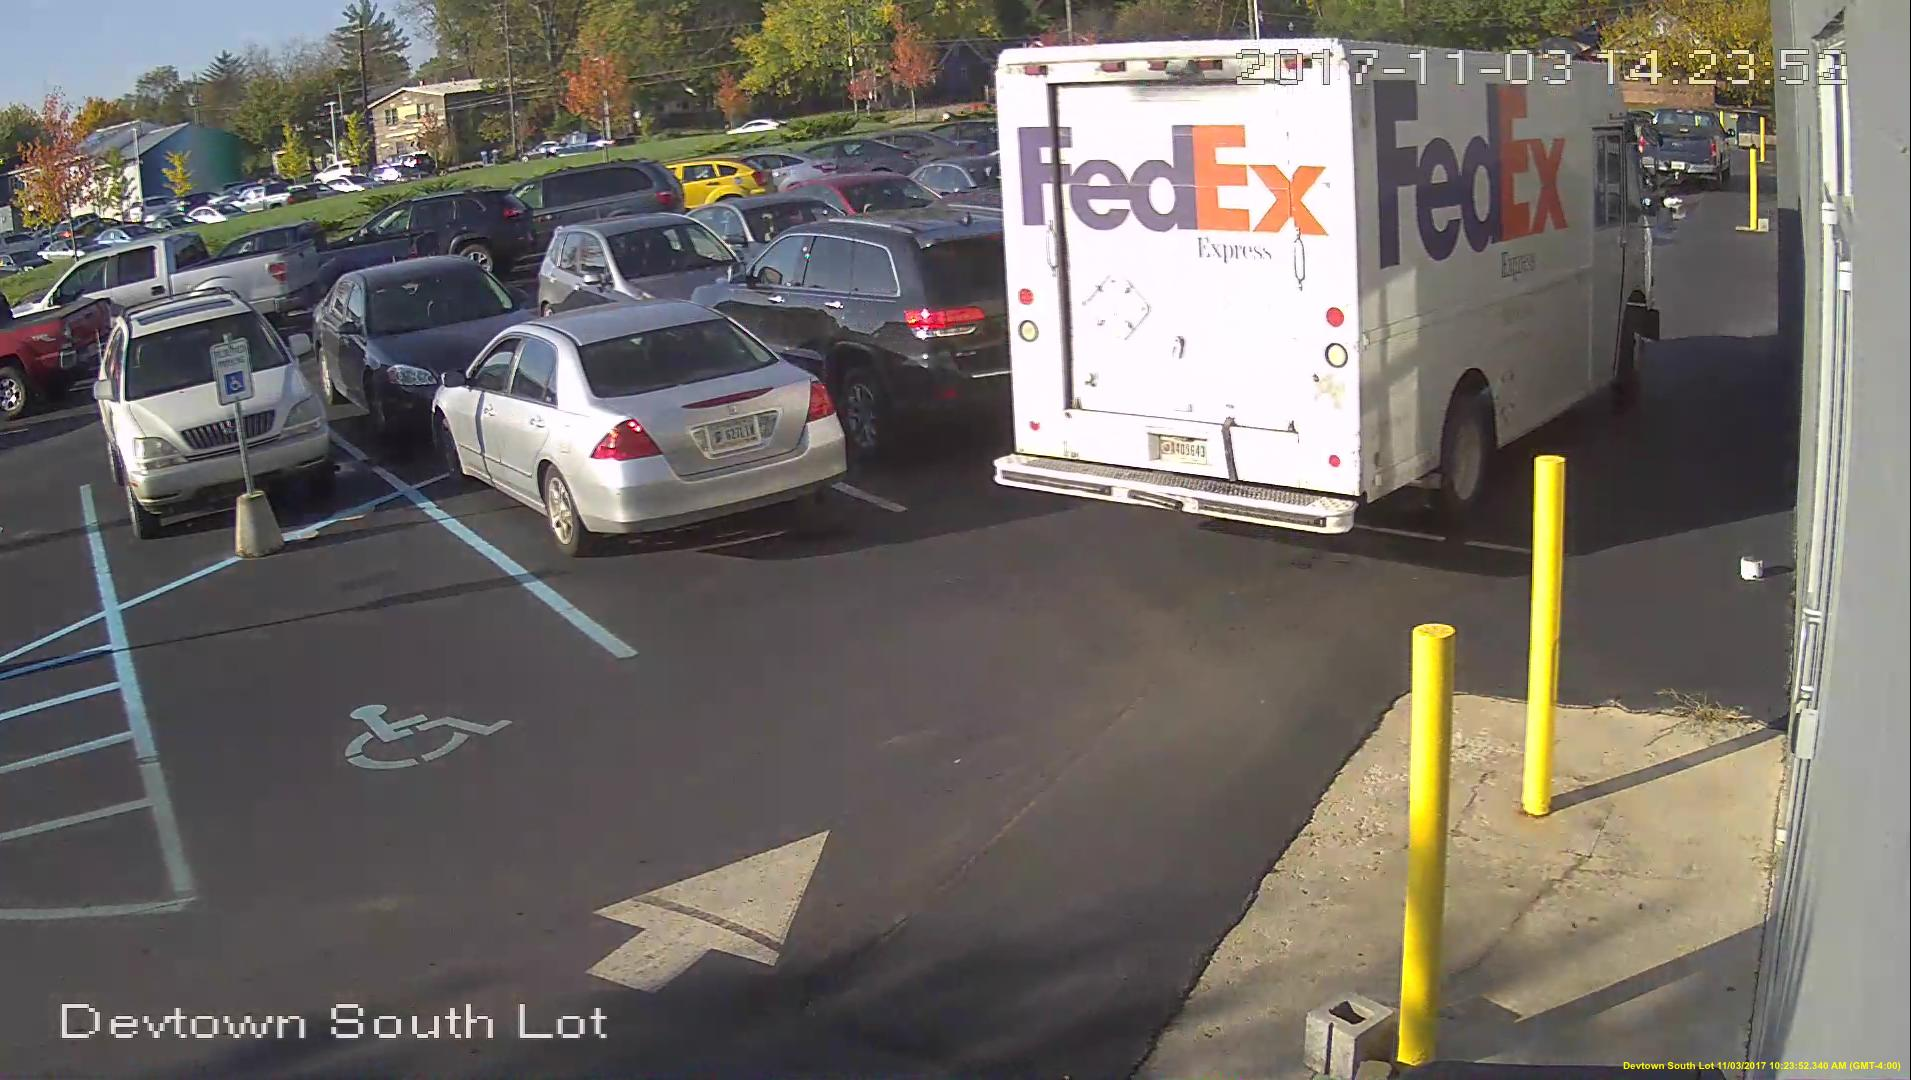fedex_truck: (986, 30, 1666, 545)
